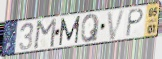3: (18, 22, 35, 51)
M: (32, 17, 58, 51), (58, 15, 81, 47)
P: (124, 8, 145, 38)
Q: (80, 13, 101, 44)
V: (106, 8, 127, 42)
